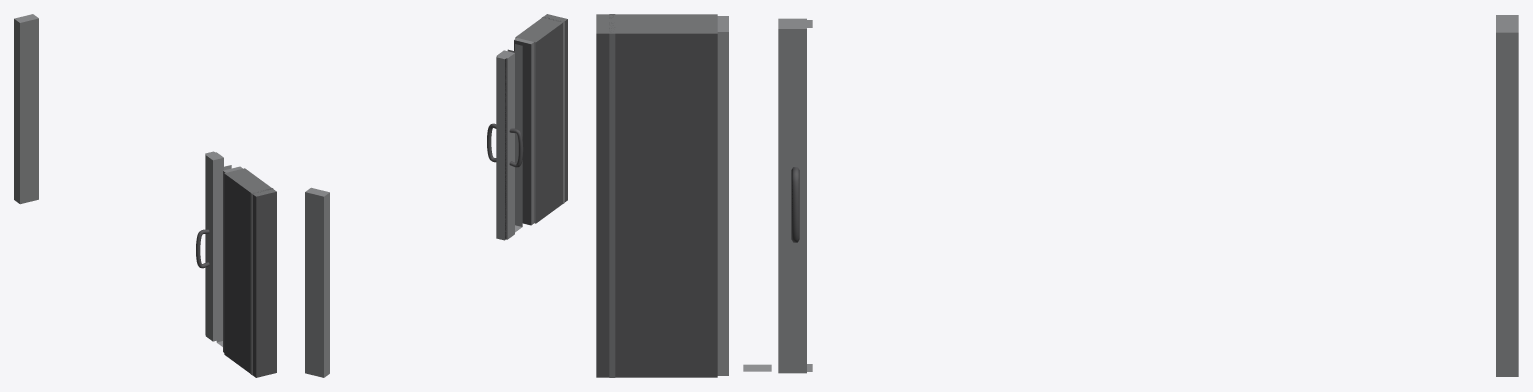
3 views of the same model, side by side, from view 1: azimuth 30°, elevation 25°; view 2: azimuth 150°, elevation 25°; view 3: azimuth 270°, elevation 25° (orthographic). The views are drawn at different scales.
Size of the model in its own units: 0.2031 by 1 by 2.43.
